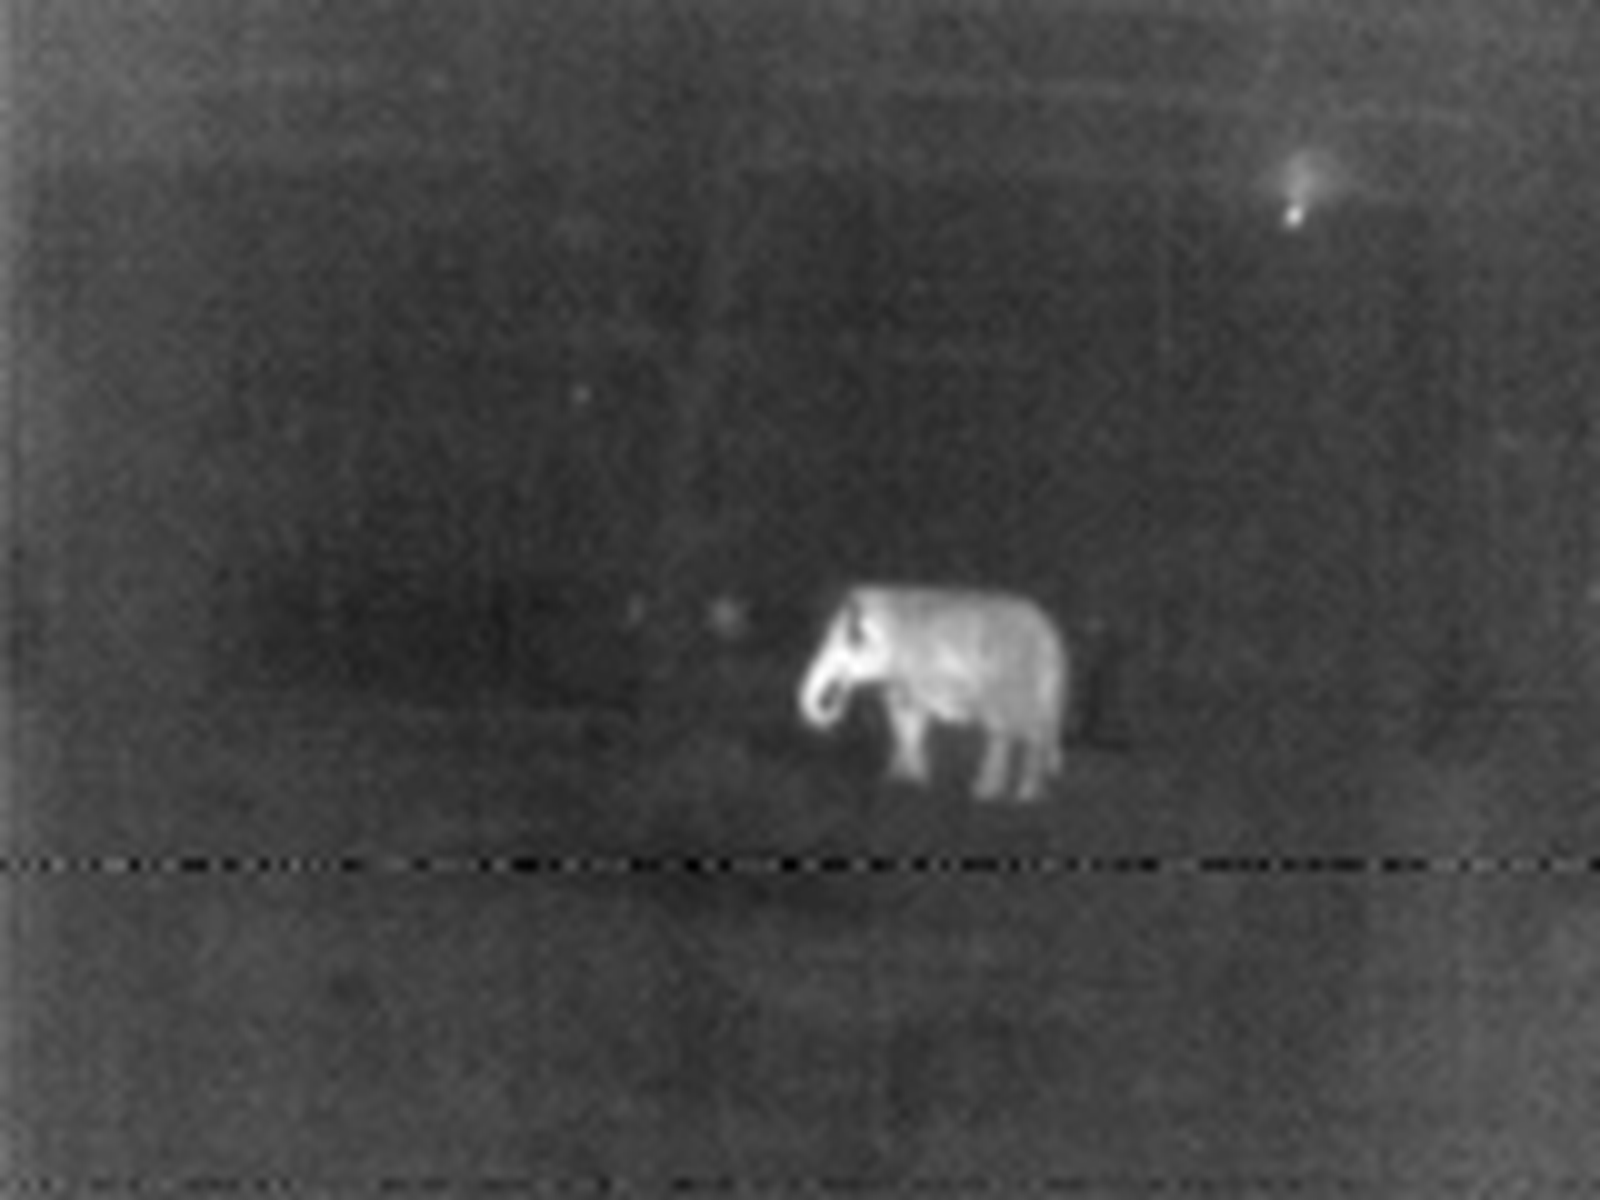elephant: (823, 585, 1068, 803)
